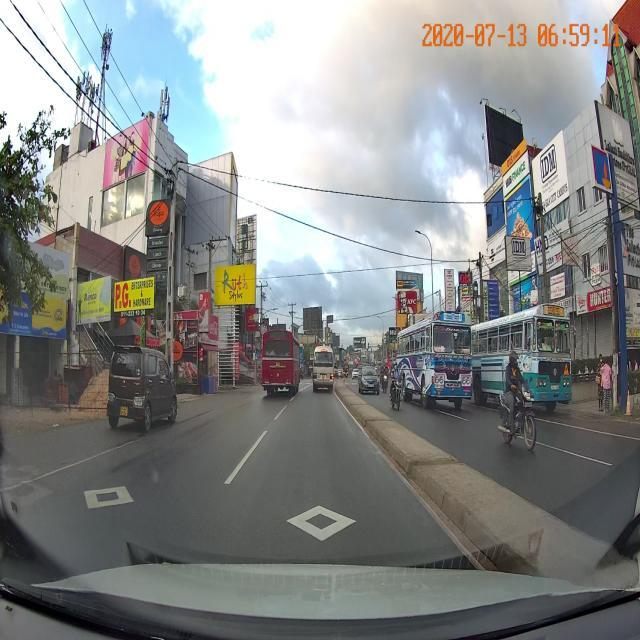diamond: (137, 501, 482, 562)
